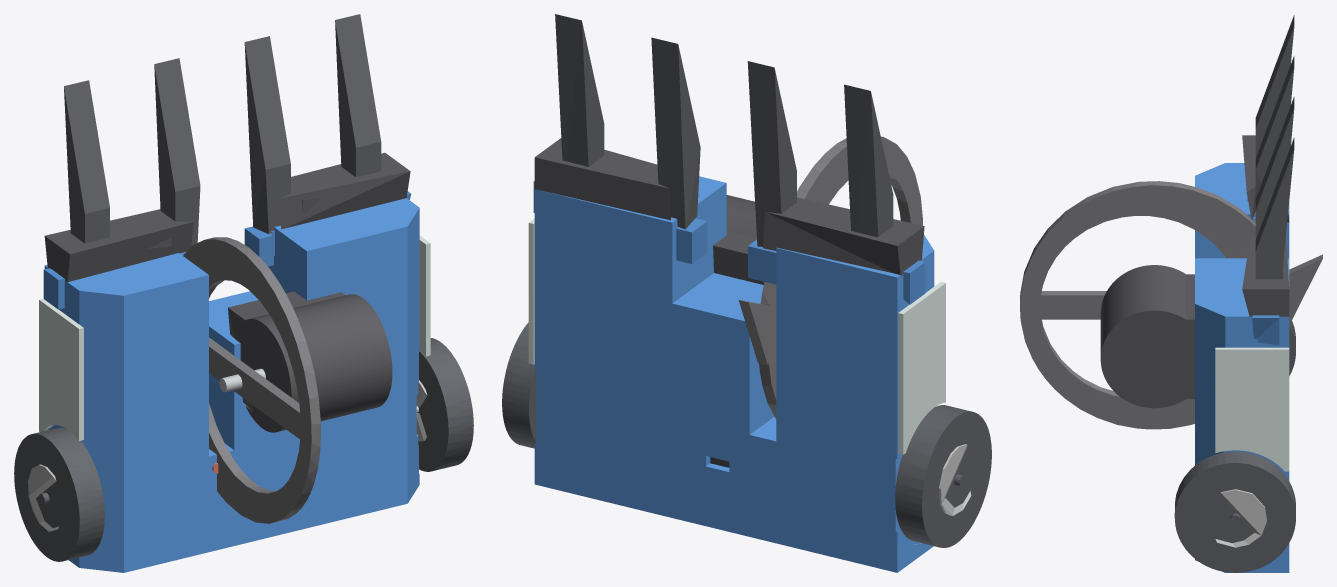
The model's file is dragoon.glb.
3 views of the same model, side by side, from view 1: azimuth 30°, elevation 25°; view 2: azimuth 150°, elevation 25°; view 3: azimuth 270°, elevation 25° (orthographic). The views are drawn at different scales.
Parts seen in each view (by area): view 1: chassis, weapon, motor_pod, wheel_r0, fork_2, fork_block_r, fork_1, wheel_l0, fork_3, fork_block_l, fork_0, side_plate_r (+5 smaller); view 2: chassis, wheel_r0, fork_block_r, weapon, fork_2, fork_block_l, side_plate_r, fork_1, fork_0, fork_3, wheel_l0, pod_base (+6 smaller); view 3: weapon, chassis, wheel_l0, motor_pod, side_plate_l, fork_3, pod_base, fork_block_l, fork_1, fork_0, fork_2, dt_hub_wheel_l0 (+2 smaller).
Boxes of the visible parts, x1,y1,x2,y2 form: chassis: (44, 198, 419, 572); weapon: (183, 237, 320, 523); motor_pod: (245, 294, 392, 432); wheel_r0: (14, 427, 104, 561); fork_2: (244, 36, 290, 233); fork_block_r: (44, 209, 193, 282); fork_1: (154, 58, 200, 246); wheel_l0: (418, 338, 473, 471); fork_3: (335, 14, 381, 177); fork_block_l: (279, 152, 410, 229); fork_0: (64, 80, 109, 243); side_plate_r: (39, 298, 83, 440); chassis: (534, 176, 934, 572); wheel_r0: (895, 405, 991, 547); fork_block_r: (763, 197, 924, 276); weapon: (738, 136, 922, 418); fork_2: (651, 37, 700, 229); fork_block_l: (534, 138, 670, 220); side_plate_r: (898, 282, 945, 454); fork_1: (747, 61, 796, 246); fork_0: (844, 84, 893, 237); fork_3: (555, 14, 604, 166); wheel_l0: (502, 322, 536, 448); pod_base: (713, 230, 764, 284); weapon: (1020, 181, 1322, 429); chassis: (1195, 163, 1289, 572); wheel_l0: (1174, 451, 1295, 572); motor_pod: (1100, 265, 1185, 408); side_plate_l: (1215, 347, 1289, 471); fork_3: (1255, 137, 1294, 279); pod_base: (1171, 274, 1194, 398); fork_block_l: (1242, 232, 1289, 316); fork_1: (1255, 56, 1294, 198); fork_0: (1255, 15, 1294, 156); fork_2: (1255, 96, 1294, 237); dt_hub_wheel_l0: (1215, 489, 1266, 547).
Bounding box in the file's own units: 128 × 136 × 89.97.
